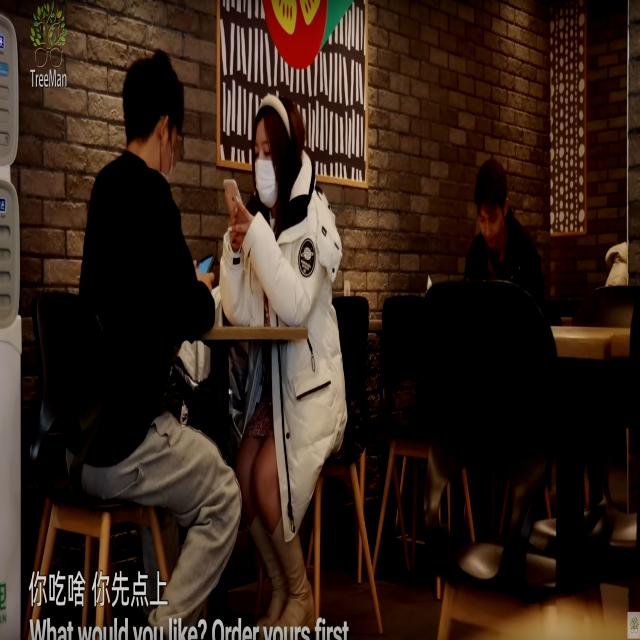phone: (210, 174, 256, 244), (193, 248, 219, 285)
